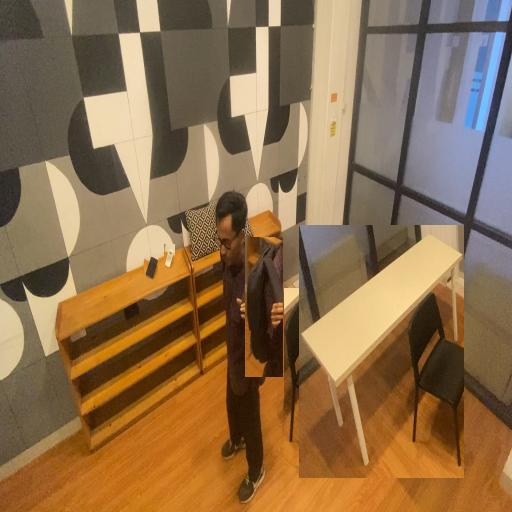bantal: (184, 200, 218, 266)
hp: (144, 257, 158, 284)
kursi: (284, 288, 356, 466)
lemari: (51, 236, 207, 458)
meja: (299, 225, 464, 478)
remote AC: (164, 244, 175, 274)
tas ransel: (245, 237, 283, 377)
